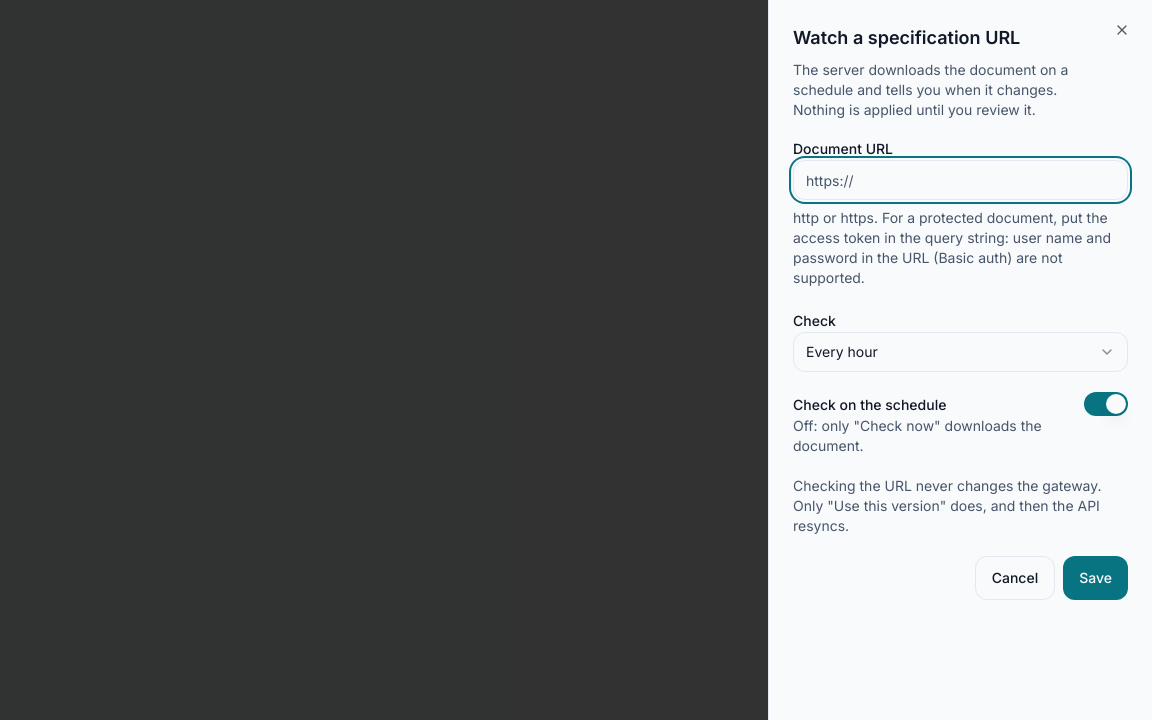
Test case: SpecSourceSheet › create: the URL is required
Click the button "Save" at (1096, 578), box [1063, 556, 1128, 600]
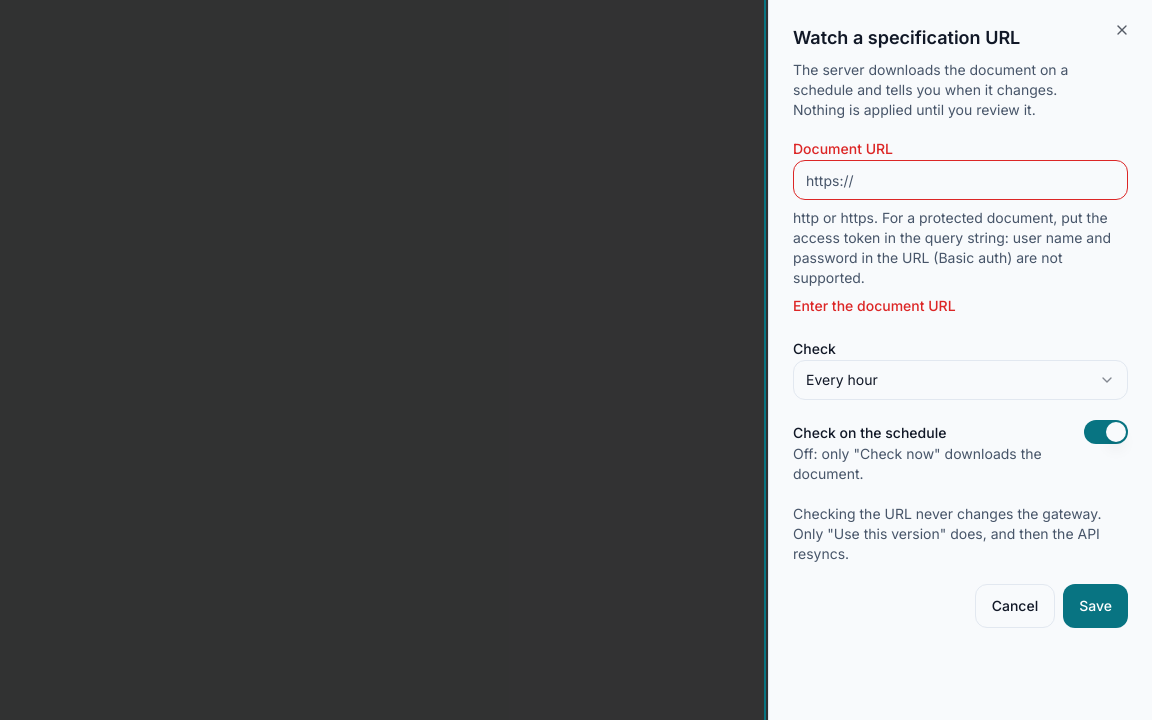
expect the text "Enter the document URL" is shown: met, box [793, 297, 956, 314]
